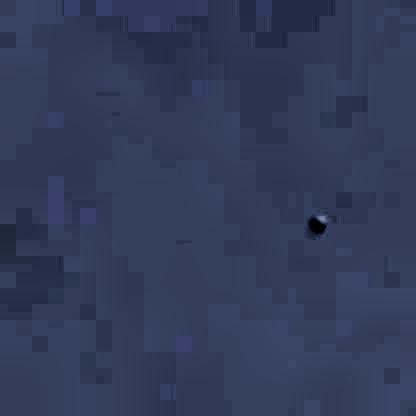golfball: (306, 212, 322, 230)
